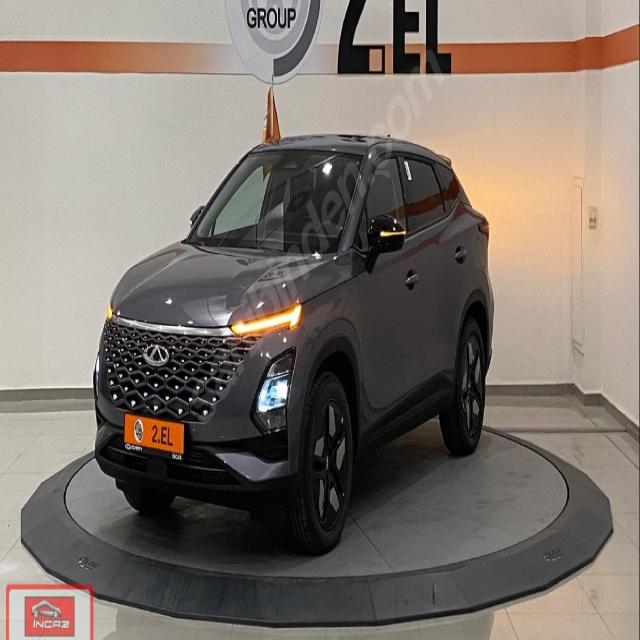cherry: (142, 340, 172, 370)
